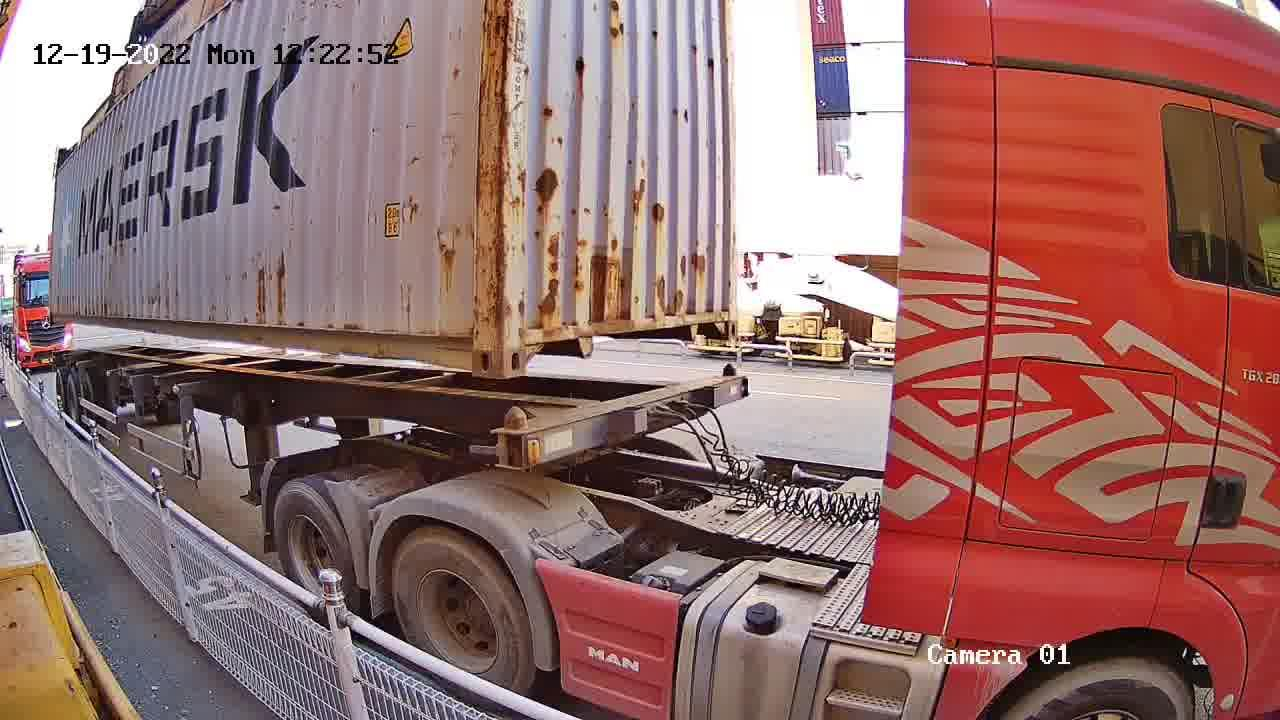Chassis: (496, 374, 745, 467)
Cone: (492, 404, 526, 468), (719, 362, 739, 402)
Hole_L: (502, 312, 553, 381)
Hole_R: (444, 305, 501, 381), (710, 299, 739, 343)
Tire: (393, 533, 527, 686), (274, 486, 352, 597)
